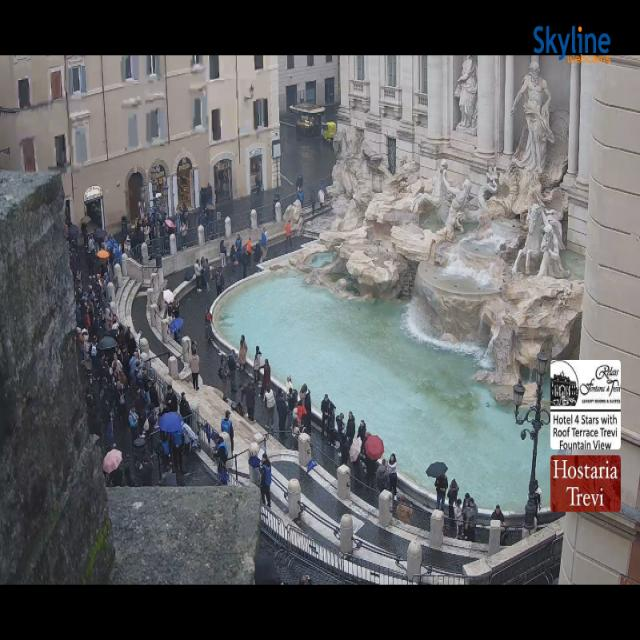person: (81, 276, 112, 347), (82, 273, 108, 343), (83, 263, 110, 328), (108, 316, 136, 376), (109, 316, 136, 378), (109, 316, 136, 369), (91, 280, 116, 336), (91, 262, 111, 331), (286, 377, 308, 432), (77, 295, 96, 355), (76, 298, 94, 361), (84, 337, 108, 383), (81, 330, 108, 370), (135, 215, 163, 252), (105, 311, 123, 367), (90, 270, 106, 331), (80, 285, 95, 343), (86, 303, 117, 331), (199, 186, 219, 228), (85, 336, 103, 379), (118, 342, 137, 382), (132, 215, 154, 248), (123, 338, 139, 382), (133, 218, 155, 250), (75, 288, 85, 358), (204, 186, 220, 229), (86, 392, 102, 435), (101, 368, 115, 417), (201, 184, 218, 223), (68, 237, 81, 285), (113, 323, 128, 364), (77, 292, 89, 343), (260, 453, 271, 508), (346, 438, 361, 478), (491, 505, 506, 545), (102, 353, 122, 383), (70, 239, 81, 292), (155, 206, 173, 238), (100, 240, 114, 281), (132, 202, 146, 243), (263, 385, 276, 429), (76, 302, 86, 358), (218, 353, 229, 401), (221, 410, 233, 454), (123, 350, 136, 390), (170, 432, 183, 472), (465, 498, 477, 541), (132, 202, 148, 234), (97, 353, 112, 387), (328, 402, 339, 448), (132, 217, 148, 248), (116, 380, 127, 425), (140, 198, 159, 224), (198, 188, 210, 229), (244, 237, 258, 272), (356, 420, 370, 455), (216, 169, 231, 201), (216, 436, 228, 476), (96, 260, 109, 296), (435, 475, 448, 511), (376, 459, 390, 492), (135, 386, 146, 427), (276, 390, 287, 431), (448, 479, 459, 519), (396, 496, 412, 523), (245, 379, 255, 422), (204, 184, 215, 223), (148, 211, 163, 239), (364, 456, 377, 488), (160, 432, 171, 469), (104, 306, 118, 335), (462, 493, 471, 538), (321, 395, 331, 435), (303, 384, 311, 434), (159, 303, 179, 323), (131, 216, 143, 249), (69, 246, 80, 281), (261, 359, 271, 397), (172, 208, 181, 250), (228, 350, 237, 392), (164, 384, 178, 411), (90, 335, 99, 377), (238, 335, 248, 372), (357, 428, 370, 456), (70, 248, 81, 281), (132, 360, 144, 390), (129, 408, 139, 444), (454, 498, 463, 538), (388, 453, 396, 498), (357, 429, 370, 456), (158, 297, 172, 322), (108, 464, 123, 487), (87, 235, 95, 278), (106, 411, 115, 448), (129, 351, 139, 384), (132, 218, 143, 248), (346, 411, 355, 447), (144, 409, 156, 436), (84, 338, 92, 378), (191, 351, 199, 390), (287, 386, 297, 417), (204, 206, 215, 234), (336, 412, 346, 442), (84, 302, 94, 332), (128, 224, 140, 249), (180, 392, 191, 419), (125, 329, 136, 356), (85, 385, 95, 414), (297, 398, 306, 430), (294, 412, 307, 434), (149, 382, 159, 409), (235, 386, 244, 416), (254, 346, 261, 384), (534, 480, 541, 518), (206, 311, 214, 344), (139, 205, 148, 234), (200, 186, 207, 223), (534, 479, 541, 515), (196, 208, 207, 229), (112, 353, 122, 376), (340, 439, 349, 464), (462, 493, 470, 521), (204, 258, 211, 290), (155, 218, 166, 238), (260, 228, 267, 259), (194, 258, 201, 289), (216, 269, 224, 296), (285, 220, 292, 250), (242, 252, 250, 278), (358, 420, 367, 443), (318, 182, 325, 211), (180, 220, 187, 249), (220, 239, 227, 268), (118, 371, 128, 391), (253, 243, 262, 265), (230, 244, 237, 272), (195, 259, 201, 291), (65, 213, 71, 241), (200, 257, 205, 289), (299, 384, 307, 404), (172, 301, 180, 319), (292, 417, 299, 437), (143, 225, 150, 245), (310, 186, 315, 212), (81, 223, 87, 244), (206, 183, 212, 204), (297, 188, 303, 208), (208, 184, 214, 204), (299, 575, 312, 584), (236, 233, 242, 252), (246, 237, 252, 256), (181, 203, 187, 221), (256, 173, 261, 194), (287, 376, 293, 392), (296, 176, 303, 188), (83, 225, 87, 244), (192, 340, 197, 355), (214, 189, 220, 201), (319, 179, 325, 191)
